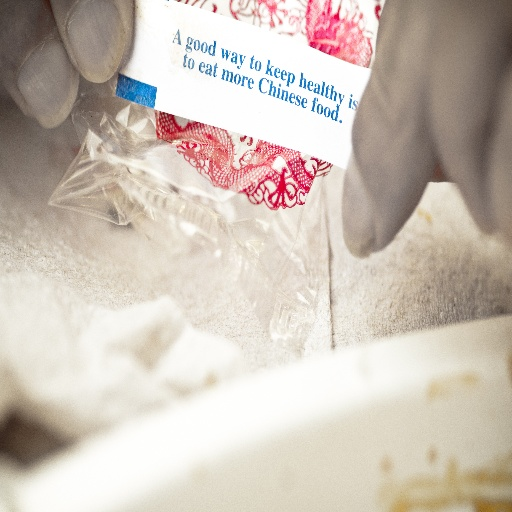hand: (352, 18, 500, 220), (0, 0, 136, 132)
